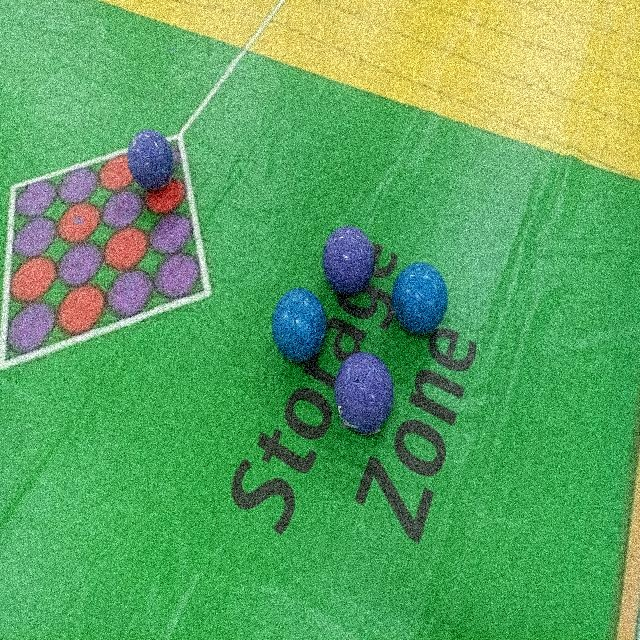blue_ball: (388, 251, 453, 340), (273, 286, 324, 368)
purple_ball: (328, 349, 398, 440), (323, 220, 378, 293), (124, 119, 172, 192)
